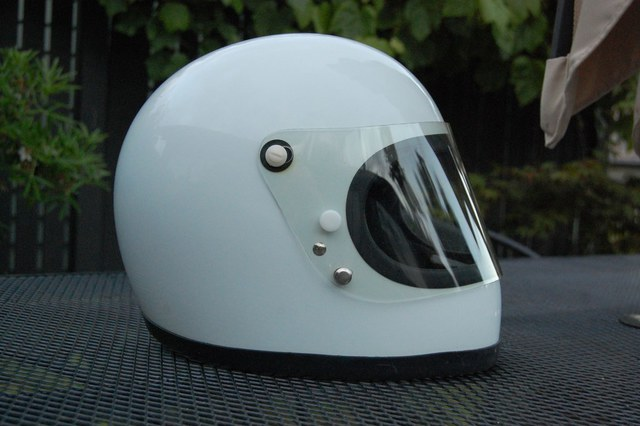helmet: (120, 41, 500, 370)
